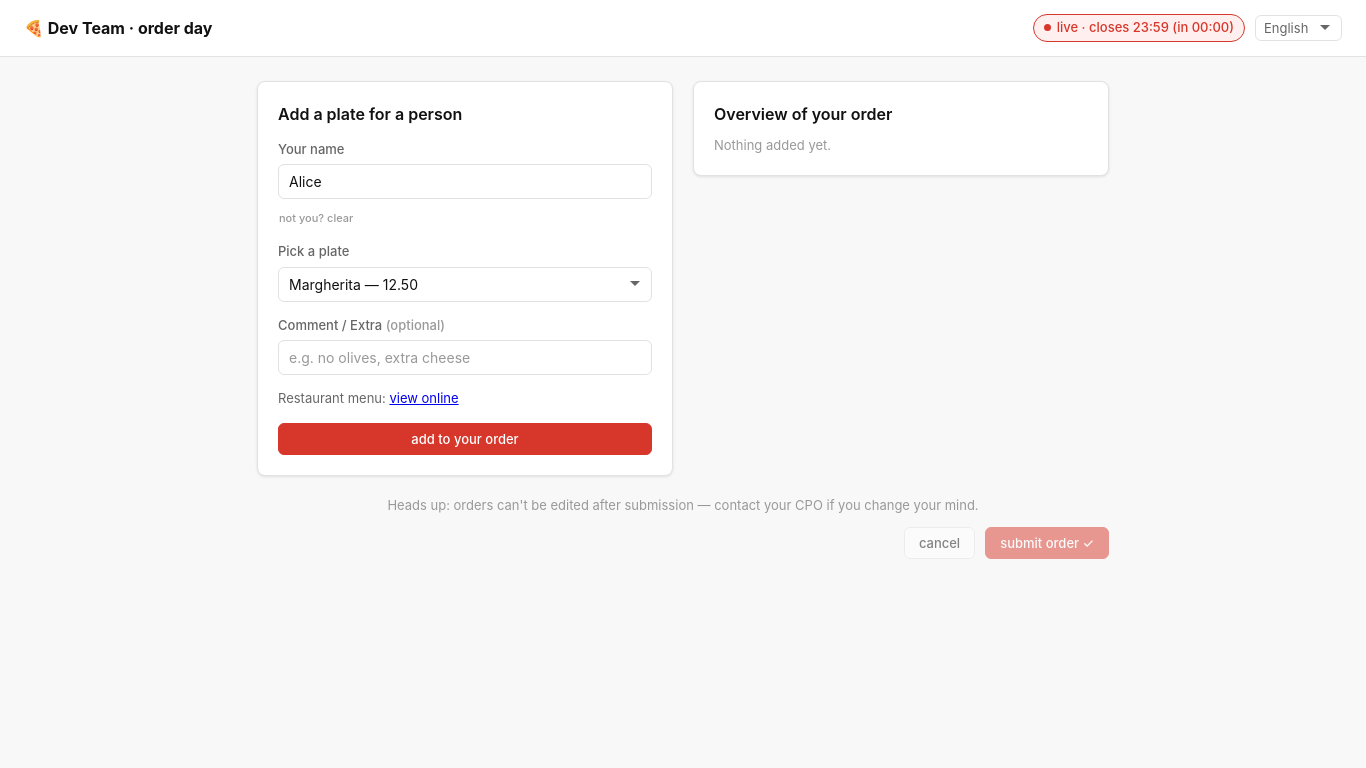
Scenario: TeamOrderPage › identity persistence › clears the remembered value via "not you? clear"
This screenshot has width=1366, height=768.
Expected: the field labelled "Your name" holds "Alice", [278,164,652,199]
Click the button "not you? clear" at (316, 218), box [278,208,652,228]
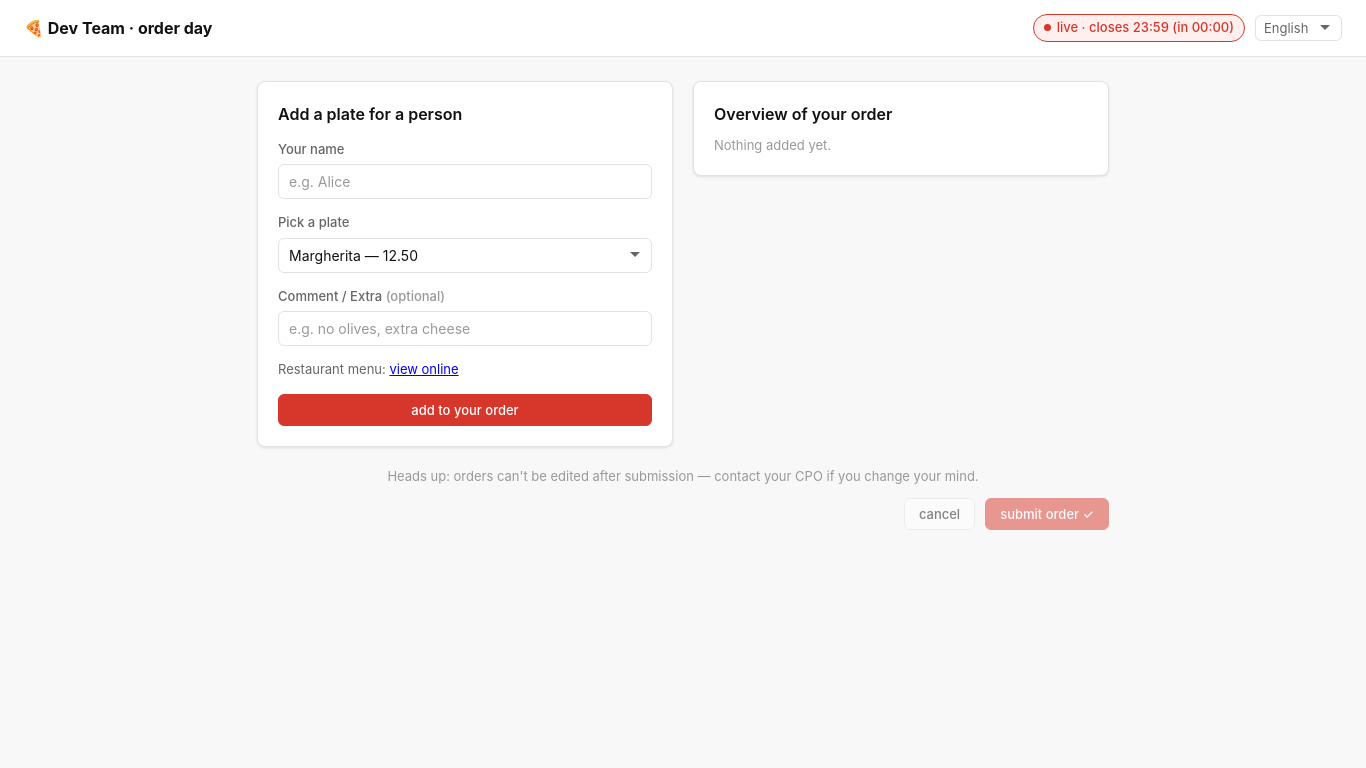
Expected: the field labelled "Your name" is empty, [278,164,652,199]
